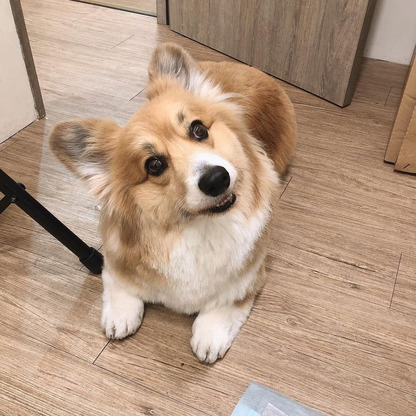Corgi: (57, 30, 298, 360)
